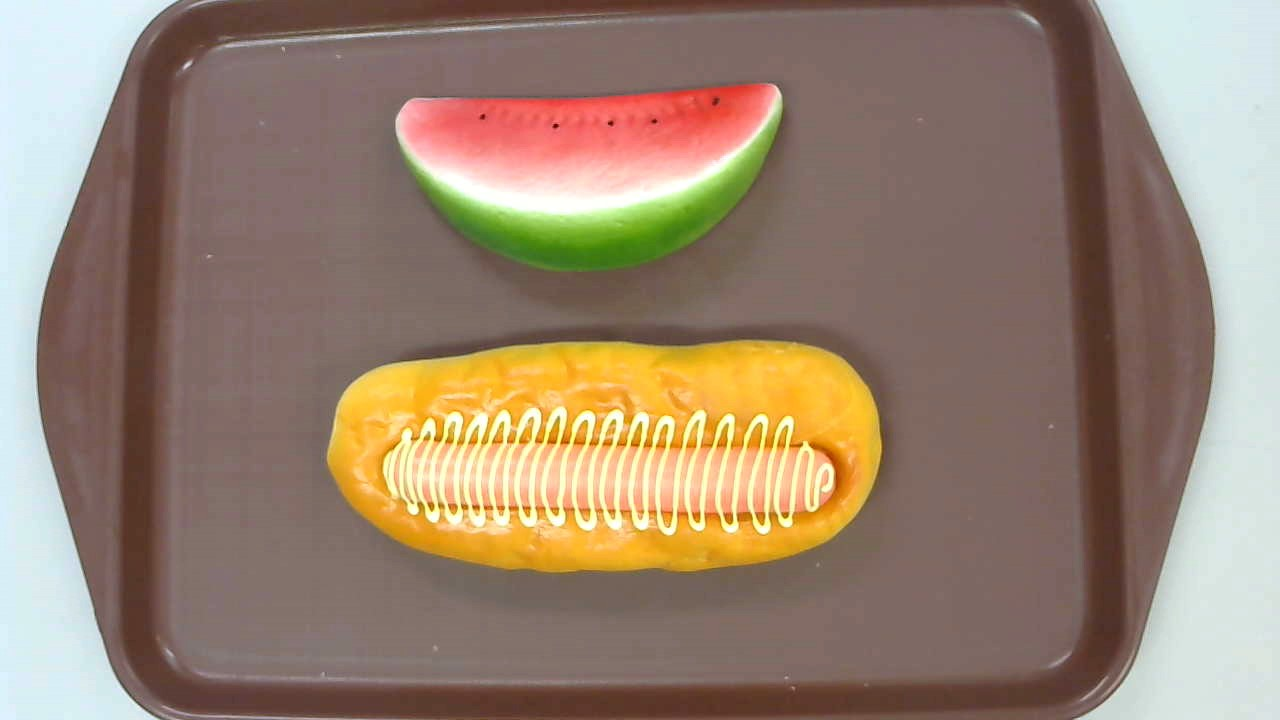hot dog: (324, 339, 881, 571)
water melon: (394, 82, 783, 273)
